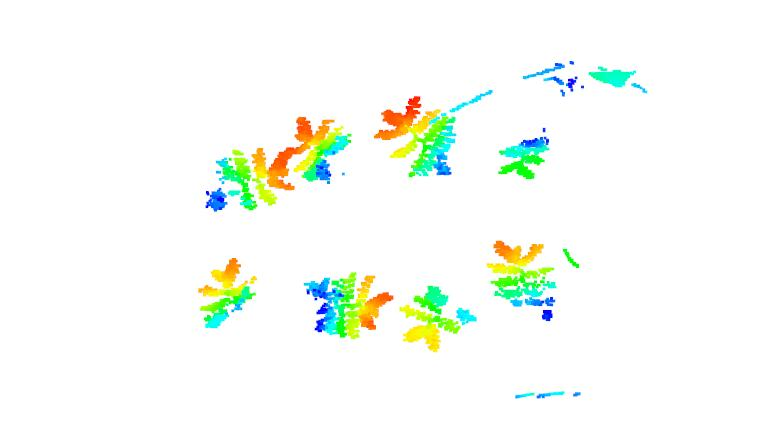chickpea: (371, 94, 461, 181), (203, 145, 297, 212), (486, 238, 557, 323), (302, 273, 392, 338), (398, 284, 480, 351), (282, 116, 353, 184), (194, 255, 260, 325), (491, 127, 556, 180)
